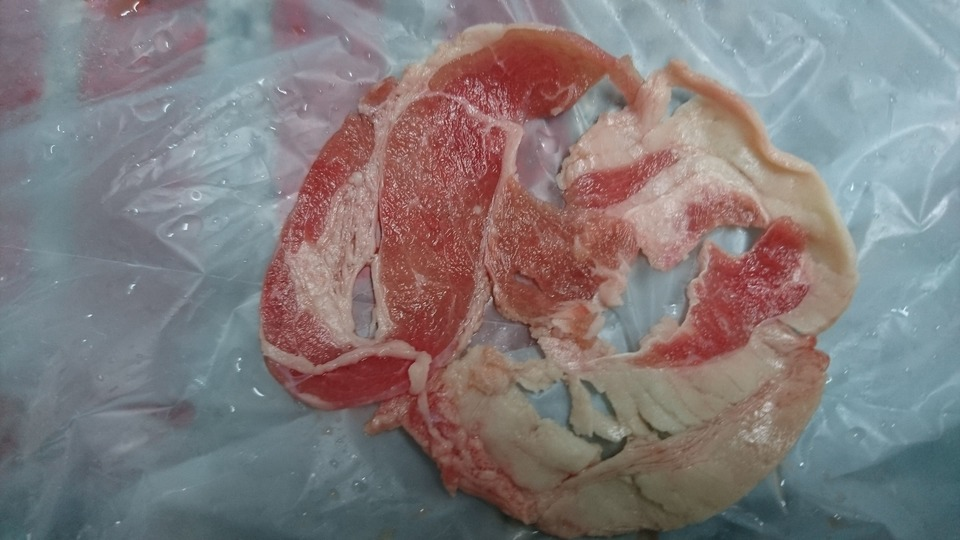restructured meat: (265, 22, 848, 534)
